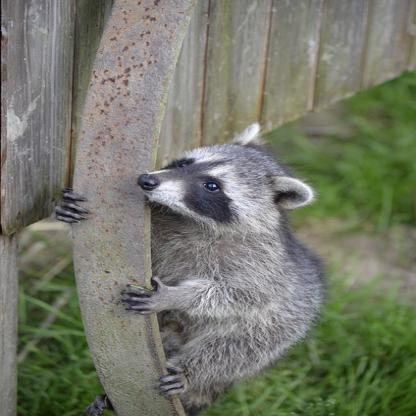raccoon: (59, 127, 321, 414)
